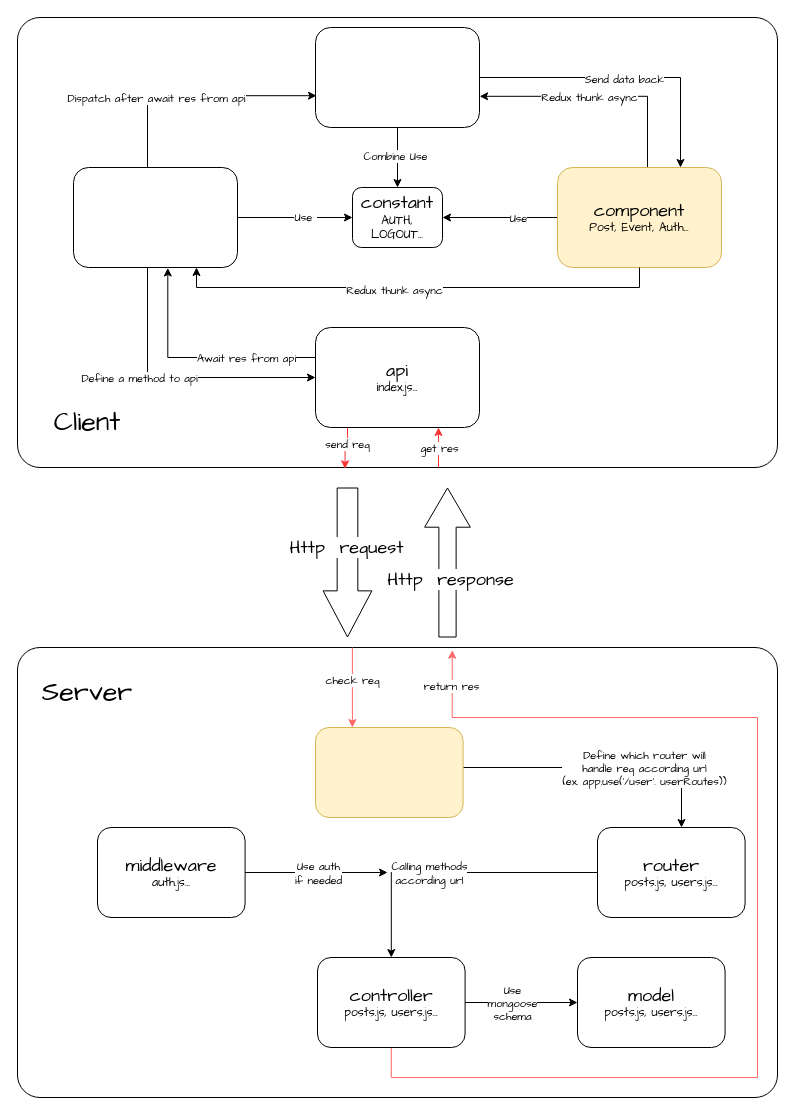
The diagram is 795 pixels wide and 1115 high, and some of its shapes have lost their labels. The box of each missing label's shape, as (x1, y1, x2, y2) in pixels:
action auth.js, posts.js...: (72, 166, 238, 268)
index.js main file to configure server (e.g. express): (314, 726, 463, 818)
reducers auth.js, posts.js, index.js...: (314, 26, 480, 128)
